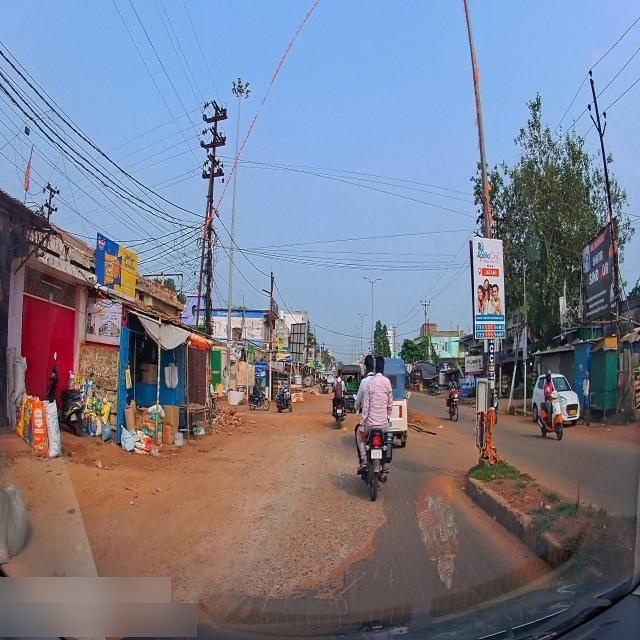pothole: (231, 447, 420, 600)
